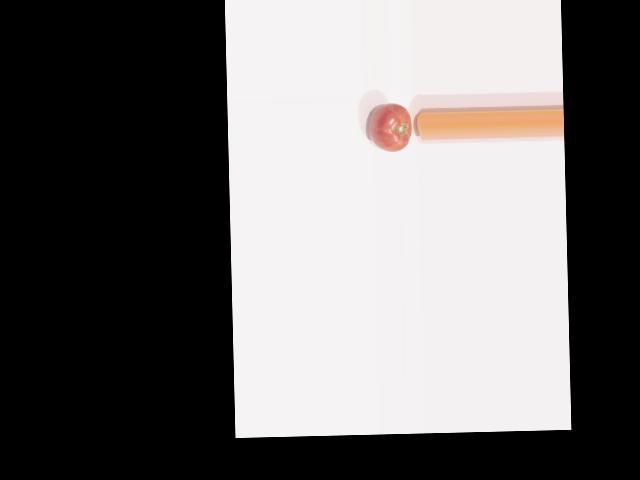tomato: (368, 103, 411, 152)
